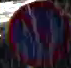No Stopping: (5, 0, 70, 67)
